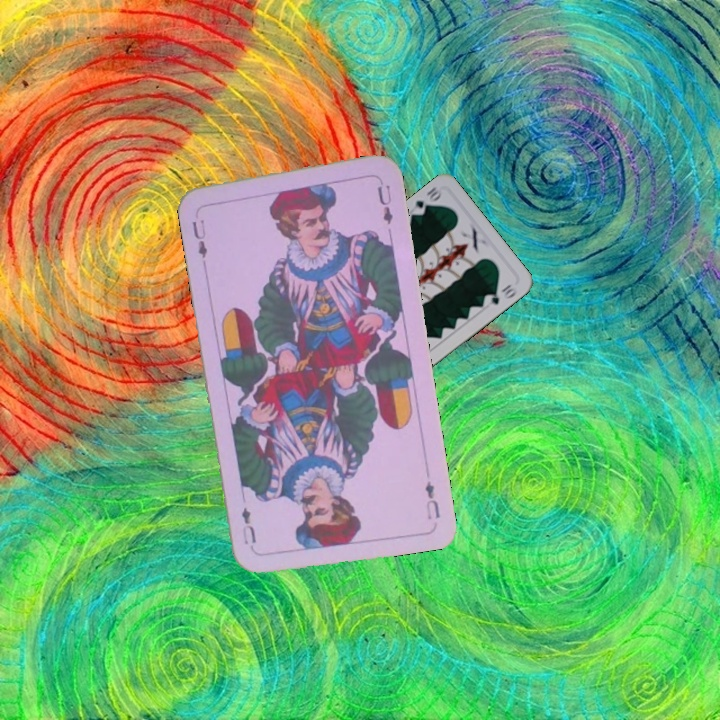EU: (188, 215, 210, 261), (421, 478, 443, 522)
G10: (408, 183, 444, 218)
